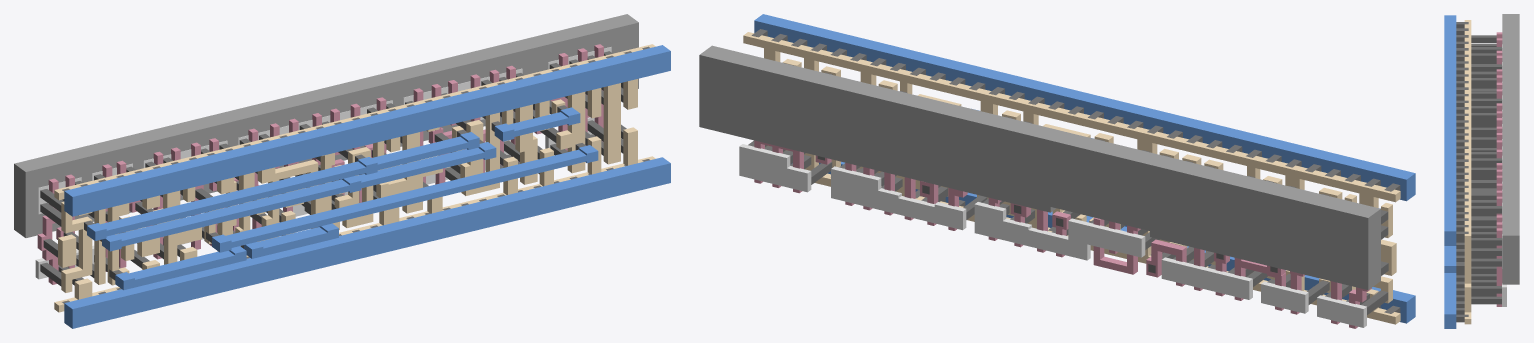
Rendered from sky130_fd_sc_hd__sedfxbp_2.gds.gltf.
The picture shows the model from 3 angles, left to right: view 1: azimuth 30°, elevation 25°; view 2: azimuth 150°, elevation 25°; view 3: azimuth 270°, elevation 25°; orthographic projection. The views are drawn at different scales.
Parts seen in each view (by area): view 1: sky130_fd_sc_hd__sedfxbp_2_met1, sky130_fd_sc_hd__sedfxbp_2_li1, sky130_fd_sc_hd__sedfxbp_2_nwell, sky130_fd_sc_hd__sedfxbp_2_poly, sky130_fd_sc_hd__sedfxbp_2_licon, sky130_fd_sc_hd__sedfxbp_2_diff, sky130_fd_sc_hd__sedfxbp_2_mcon; view 2: sky130_fd_sc_hd__sedfxbp_2_nwell, sky130_fd_sc_hd__sedfxbp_2_diff, sky130_fd_sc_hd__sedfxbp_2_li1, sky130_fd_sc_hd__sedfxbp_2_met1, sky130_fd_sc_hd__sedfxbp_2_poly, sky130_fd_sc_hd__sedfxbp_2_licon, sky130_fd_sc_hd__sedfxbp_2_mcon; view 3: sky130_fd_sc_hd__sedfxbp_2_licon, sky130_fd_sc_hd__sedfxbp_2_nwell, sky130_fd_sc_hd__sedfxbp_2_met1, sky130_fd_sc_hd__sedfxbp_2_mcon, sky130_fd_sc_hd__sedfxbp_2_li1, sky130_fd_sc_hd__sedfxbp_2_poly, sky130_fd_sc_hd__sedfxbp_2_diff.
Part boxes in pixels (x1=…): sky130_fd_sc_hd__sedfxbp_2_met1: x1=64, y1=45, x2=670, y2=328; sky130_fd_sc_hd__sedfxbp_2_li1: x1=54, y1=44, x2=655, y2=312; sky130_fd_sc_hd__sedfxbp_2_nwell: x1=14, y1=14, x2=638, y2=237; sky130_fd_sc_hd__sedfxbp_2_poly: x1=37, y1=44, x2=603, y2=284; sky130_fd_sc_hd__sedfxbp_2_licon: x1=40, y1=51, x2=626, y2=286; sky130_fd_sc_hd__sedfxbp_2_diff: x1=35, y1=47, x2=611, y2=279; sky130_fd_sc_hd__sedfxbp_2_mcon: x1=62, y1=46, x2=649, y2=303; sky130_fd_sc_hd__sedfxbp_2_nwell: x1=699, y1=45, x2=1380, y2=289; sky130_fd_sc_hd__sedfxbp_2_diff: x1=739, y1=144, x2=1366, y2=327; sky130_fd_sc_hd__sedfxbp_2_li1: x1=743, y1=32, x2=1400, y2=324; sky130_fd_sc_hd__sedfxbp_2_met1: x1=754, y1=14, x2=1415, y2=323; sky130_fd_sc_hd__sedfxbp_2_poly: x1=754, y1=140, x2=1371, y2=328; sky130_fd_sc_hd__sedfxbp_2_licon: x1=748, y1=72, x2=1388, y2=314; sky130_fd_sc_hd__sedfxbp_2_mcon: x1=751, y1=29, x2=1400, y2=313; sky130_fd_sc_hd__sedfxbp_2_licon: x1=1471, y1=35, x2=1501, y2=304; sky130_fd_sc_hd__sedfxbp_2_nwell: x1=1502, y1=14, x2=1519, y2=284; sky130_fd_sc_hd__sedfxbp_2_met1: x1=1444, y1=15, x2=1456, y2=328; sky130_fd_sc_hd__sedfxbp_2_mcon: x1=1456, y1=22, x2=1468, y2=322; sky130_fd_sc_hd__sedfxbp_2_li1: x1=1464, y1=20, x2=1471, y2=324; sky130_fd_sc_hd__sedfxbp_2_poly: x1=1496, y1=32, x2=1502, y2=306; sky130_fd_sc_hd__sedfxbp_2_diff: x1=1502, y1=44, x2=1506, y2=306.
Bounding box in the file's own units: 15.56 × 3.2 × 2.24.
